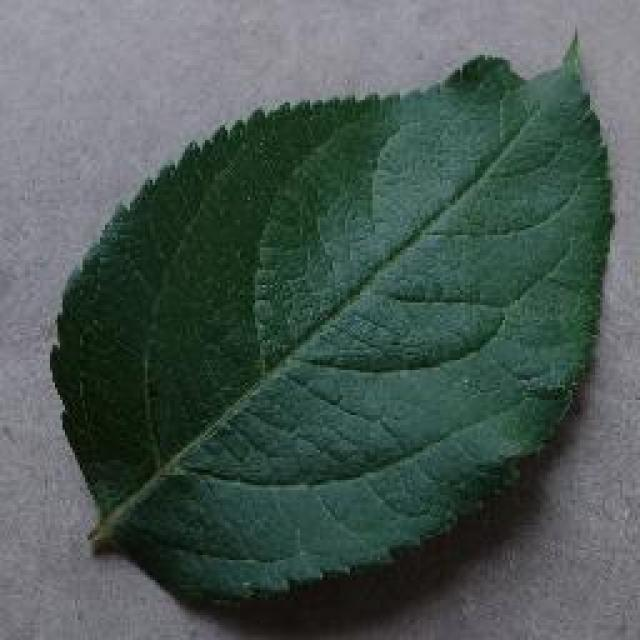apple healthy: (45, 22, 617, 608)
